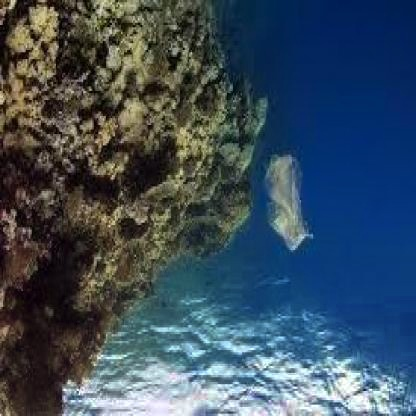pbag: (263, 150, 315, 252)
